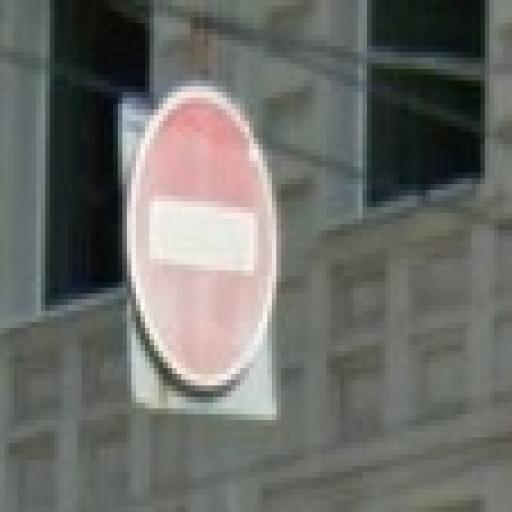traffic_sign: (128, 82, 282, 392)
